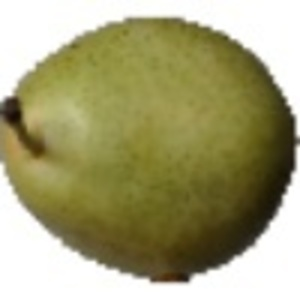pera: (1, 1, 300, 286)
